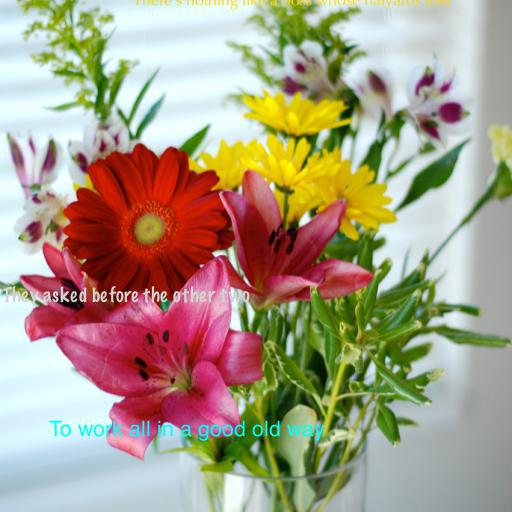Marker Felt: (2, 286, 250, 306)
Optima: (132, 0, 450, 10)
SignPainter: (49, 420, 325, 441)
